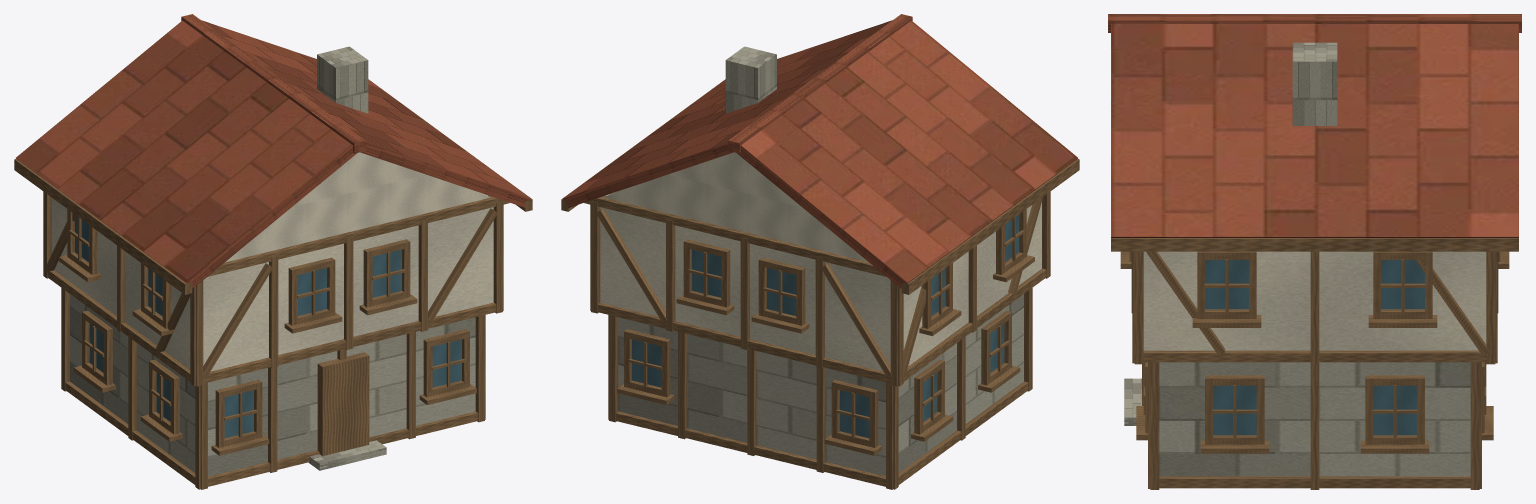
The picture shows the model from 3 angles, left to right: view 1: azimuth 30°, elevation 25°; view 2: azimuth 150°, elevation 25°; view 3: azimuth 270°, elevation 25°; orthographic projection. The views are drawn at different scales.
Parts seen in each view (by area): view 1: house-roof, house-wood, house-plaster, house-stone, house-glass; view 2: house-roof, house-wood, house-plaster, house-stone, house-glass; view 3: house-roof, house-wood, house-stone, house-plaster, house-glass.
Boxes of the visible parts, left/top/right/bottom form: house-roof: left=16, top=14, right=530, bottom=288; house-wood: left=14, top=80, right=532, bottom=489; house-plaster: left=52, top=152, right=493, bottom=371; house-stone: left=70, top=46, right=475, bottom=476; house-glass: left=75, top=216, right=461, bottom=438; house-roof: left=563, top=14, right=1077, bottom=289; house-wood: left=561, top=80, right=1079, bottom=489; house-plaster: left=600, top=152, right=1041, bottom=371; house-stone: left=618, top=46, right=1023, bottom=476; house-glass: left=632, top=215, right=1018, bottom=438; house-roof: left=1108, top=14, right=1521, bottom=237; house-wood: left=1111, top=238, right=1518, bottom=489; house-stone: left=1124, top=42, right=1470, bottom=476; house-plaster: left=1143, top=251, right=1486, bottom=350; house-glass: left=1205, top=260, right=1424, bottom=435.
Bounding box in the file's own units: 8.54 × 7.74 × 7.36.
Materials: 5 (5 with a texture image).
